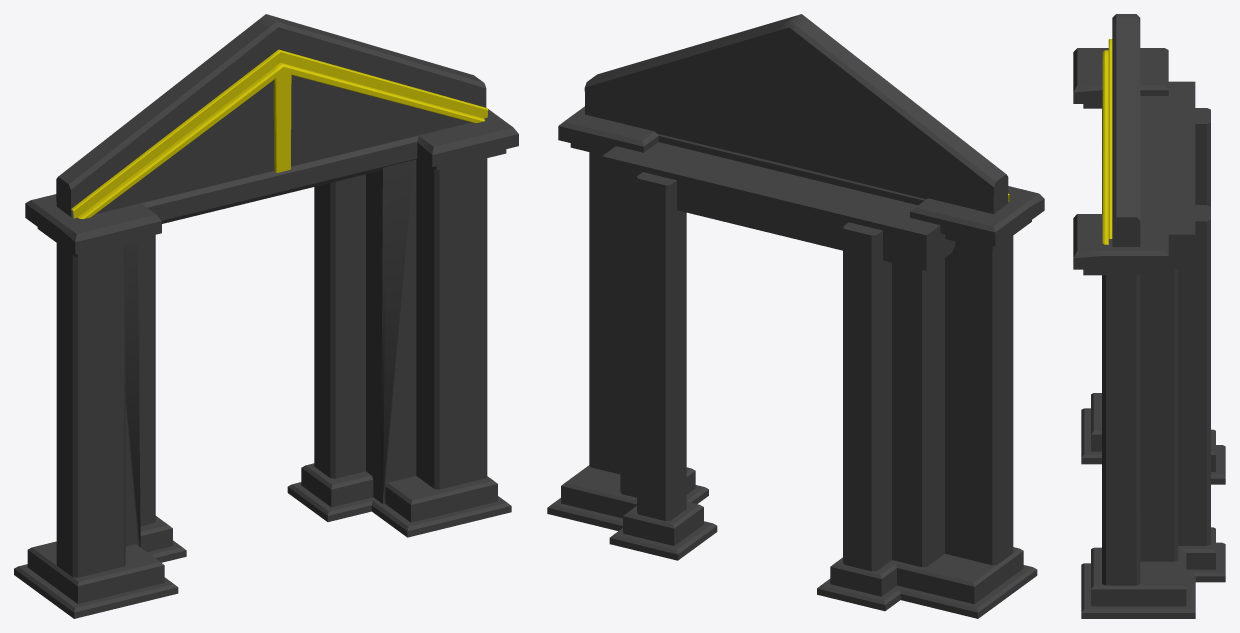
Rendered from temple_entrance ornate.fbx.
3 views of the same model, side by side, from view 1: azimuth 30°, elevation 25°; view 2: azimuth 150°, elevation 25°; view 3: azimuth 270°, elevation 25° (orthographic). The views are drawn at different scales.
Parts seen in each view (by area): view 1: temple entrance; view 2: temple entrance; view 3: temple entrance.
Part boxes in pixels (<box>): temple entrance: <box>14,14,518,618</box>; temple entrance: <box>547,14,1044,618</box>; temple entrance: <box>1073,14,1225,618</box>.
Bounding box in the file's own units: 102 × 116 × 31.81.
